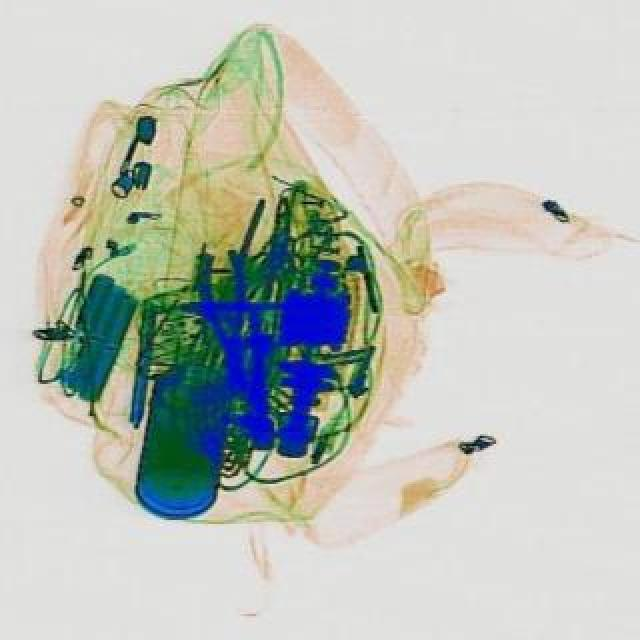wrench: (196, 246, 266, 392)
